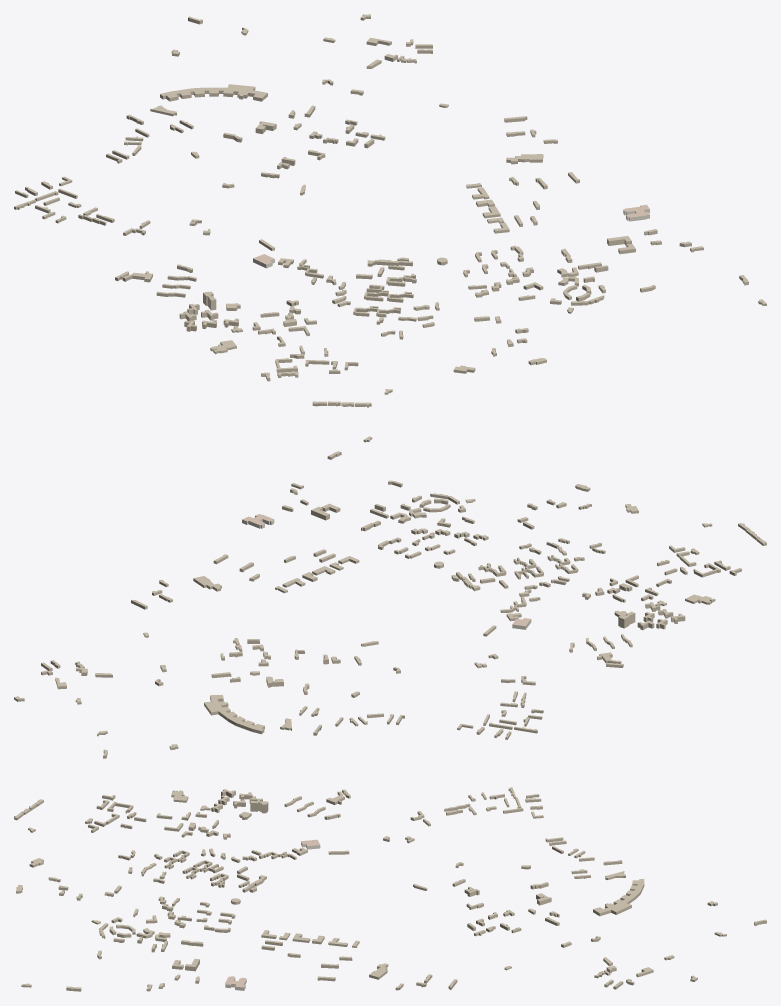
3 views of the same model, one above another, from view 1: azimuth 30°, elevation 25°; view 2: azimuth 150°, elevation 25°; view 3: azimuth 270°, elevation 25° (orthographic). The views are drawn at different scales.
Bounding box in the file's own units: 1558 × 34.2 × 2468.
